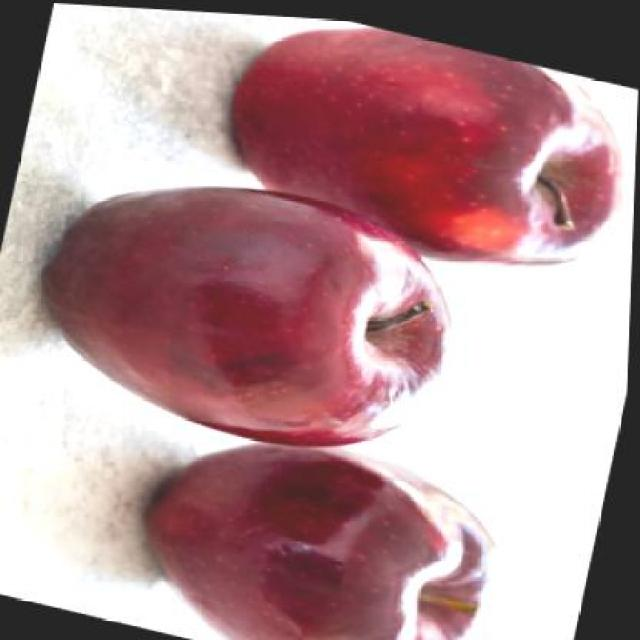Fresh Apple: (45, 184, 437, 450), (226, 23, 599, 266), (138, 454, 497, 640)
